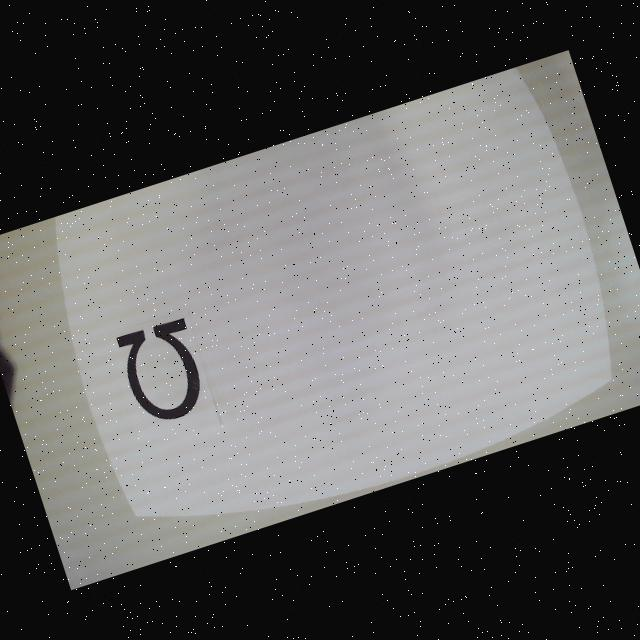OMEGA: (115, 314, 214, 428)
